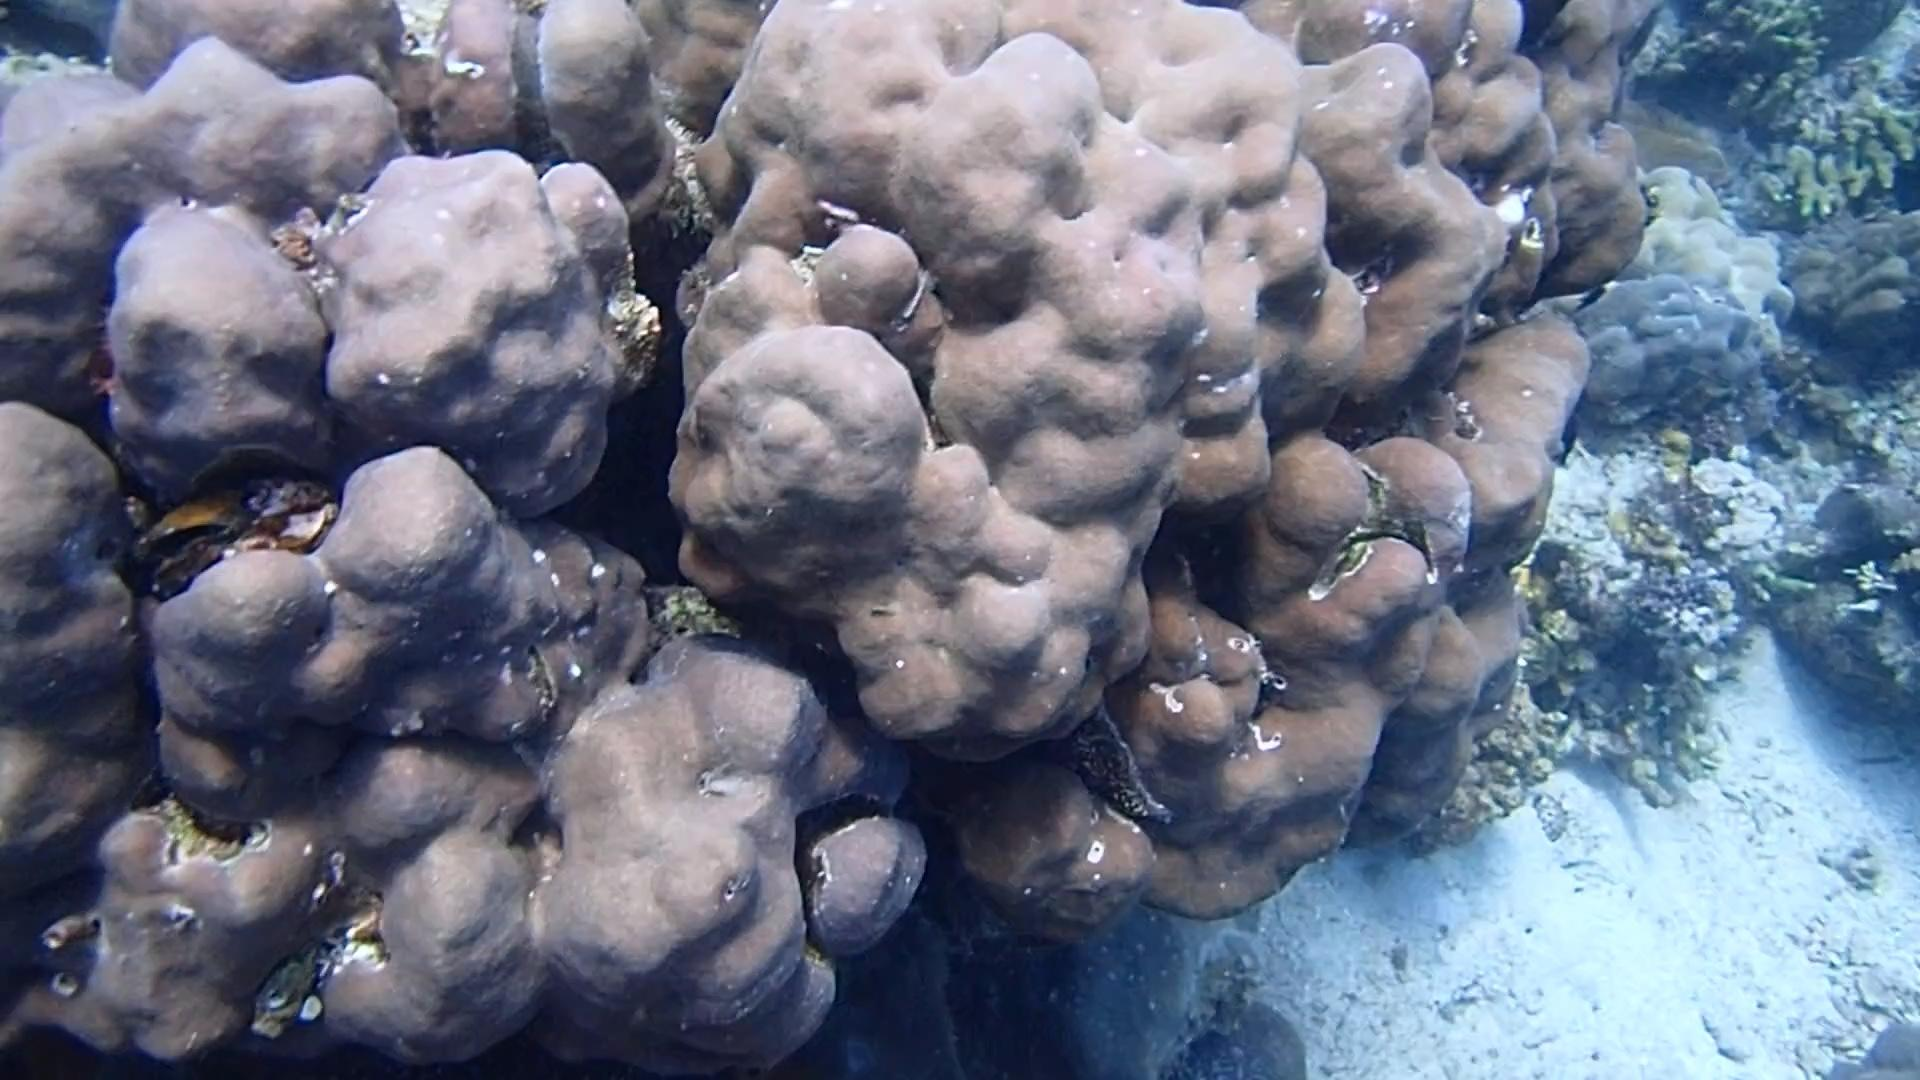Dark Fish: (1569, 281, 1614, 316)
